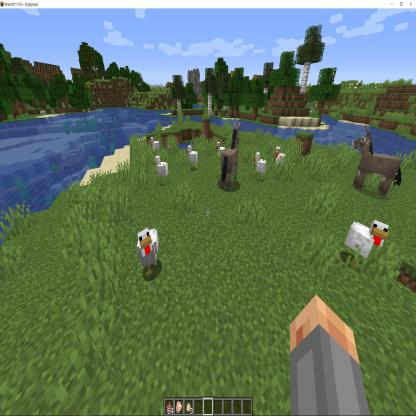minecraft-pigs: (172, 105, 231, 207)
